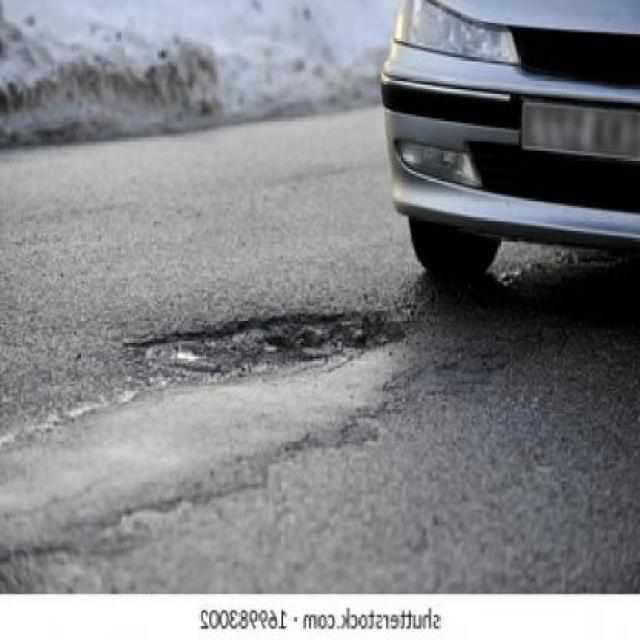Pothole: (132, 310, 408, 382)
